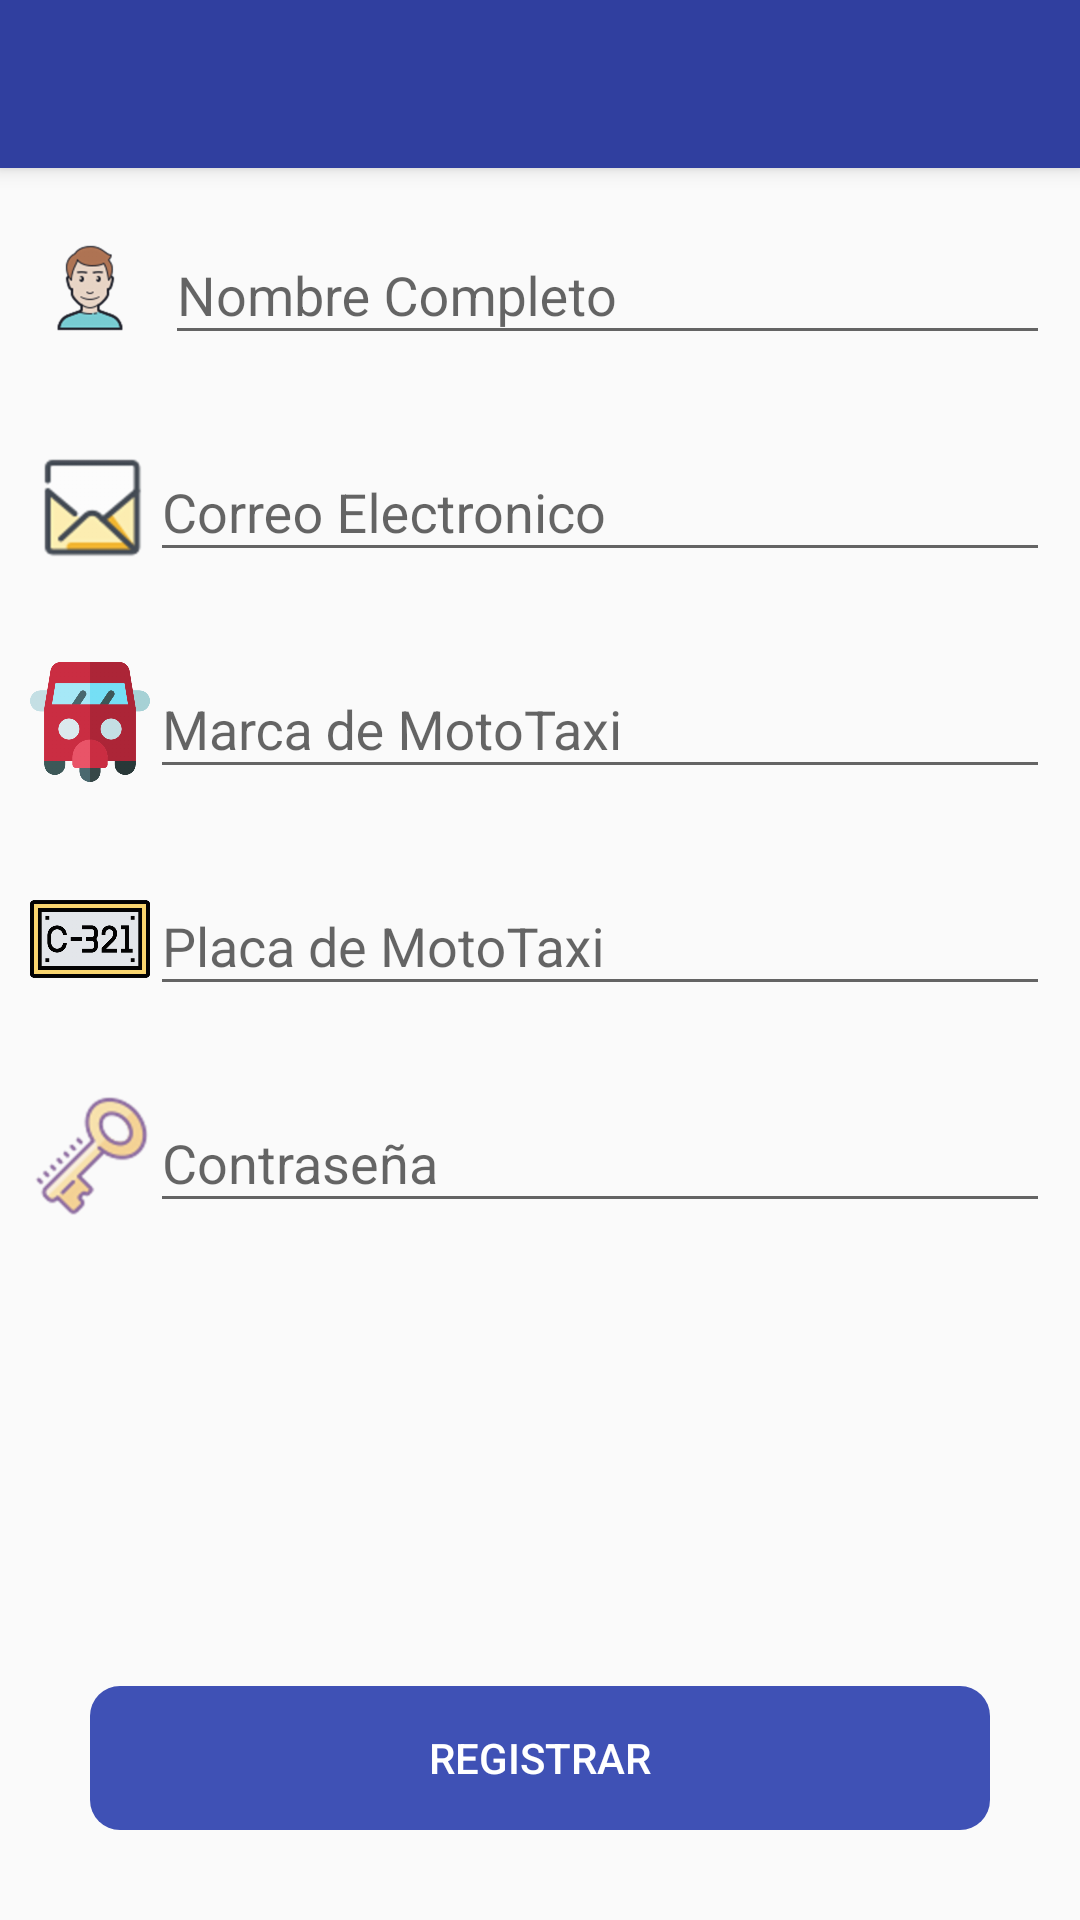

Where icons sit on this 1080px×1920px app screen, as box=[x1, y1, x2, y2]:
password: box=[36, 1097, 147, 1215]
usuario: box=[57, 245, 123, 331]
